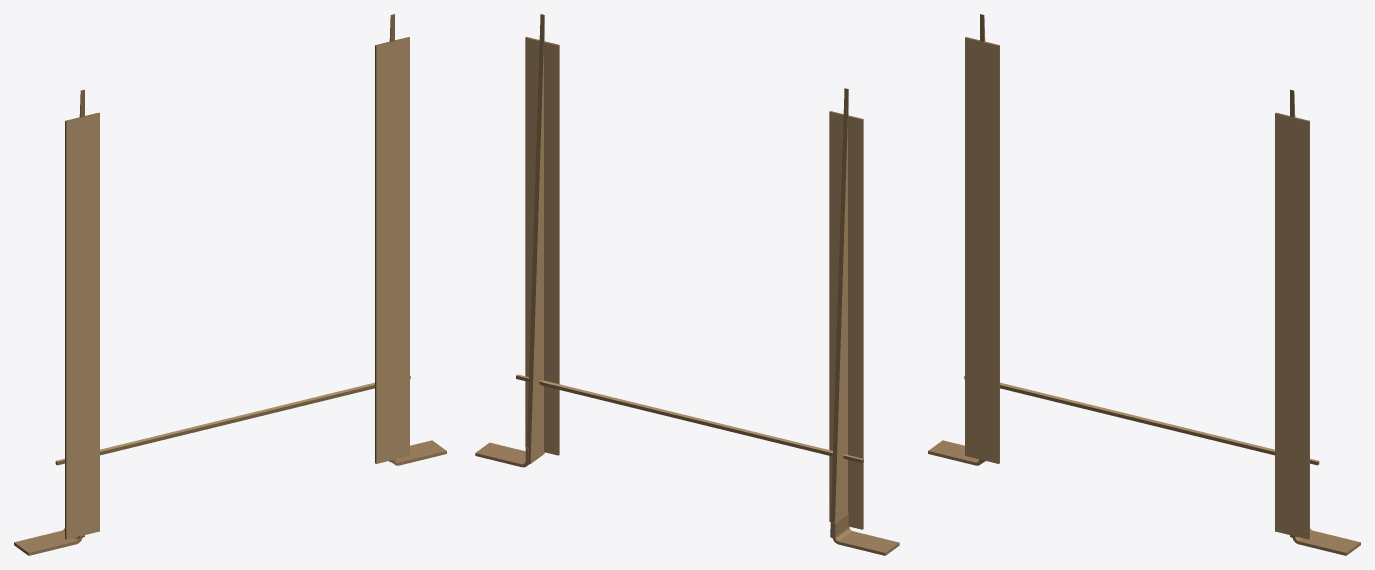
The model's file is standee-support-header.glb.
The picture shows the model from 3 angles, left to right: view 1: azimuth 30°, elevation 25°; view 2: azimuth 150°, elevation 25°; view 3: azimuth 330°, elevation 25°; orthographic projection.
Parts seen in each view (by area): view 1: header_GlueFlange_-1, header_GlueFlange_1, header_ShoulderedLockingBridge, header_ScoredFoot_-1, header_ScoredFoot_1; view 2: header_GlueFlange_-1, header_GlueFlange_1, header_Right_EaselWeb, header_Left_EaselWeb, header_ShoulderedLockingBridge, header_ScoredFoot_-1, header_ScoredFoot_1; view 3: header_GlueFlange_1, header_GlueFlange_-1, header_ShoulderedLockingBridge, header_ScoredFoot_1, header_ScoredFoot_-1.
Boxes of the visible parts, left/top/right/bottom form: header_GlueFlange_-1: left=65, top=112, right=99, bottom=539; header_GlueFlange_1: left=375, top=37, right=409, bottom=463; header_ShoulderedLockingBridge: left=55, top=376, right=410, bottom=465; header_ScoredFoot_-1: left=14, top=528, right=82, bottom=555; header_ScoredFoot_1: left=391, top=440, right=446, bottom=465; header_GlueFlange_-1: left=829, top=111, right=863, bottom=529; header_GlueFlange_1: left=525, top=37, right=559, bottom=455; header_Right_EaselWeb: left=526, top=14, right=544, bottom=463; header_Left_EaselWeb: left=830, top=88, right=848, bottom=537; header_ShoulderedLockingBridge: left=516, top=374, right=863, bottom=463; header_ScoredFoot_-1: left=832, top=513, right=899, bottom=555; header_ScoredFoot_1: left=475, top=442, right=529, bottom=467; header_GlueFlange_1: left=1275, top=112, right=1309, bottom=539; header_GlueFlange_-1: left=965, top=37, right=999, bottom=463; header_ShoulderedLockingBridge: left=964, top=376, right=1319, bottom=465; header_ScoredFoot_1: left=1292, top=528, right=1360, bottom=555; header_ScoredFoot_-1: left=928, top=440, right=983, bottom=465.
Size of the model in its own units: 1.16 by 1.2 by 0.072.
